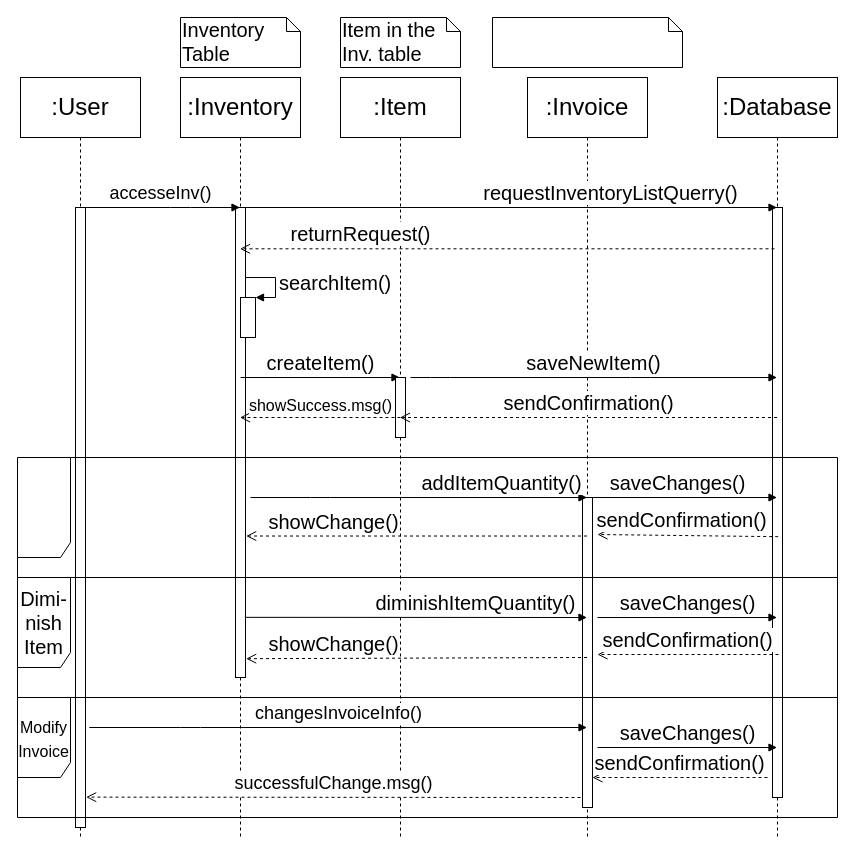
This 855x855 diagram has some shape labels left out. Here are the shapes that lost their labels. From the top down, the box of each, then its label:
(492, 16, 682, 68): Invoice for purchase and COGS (Flet-Dalje)
(16, 456, 838, 578): Add Item Q
